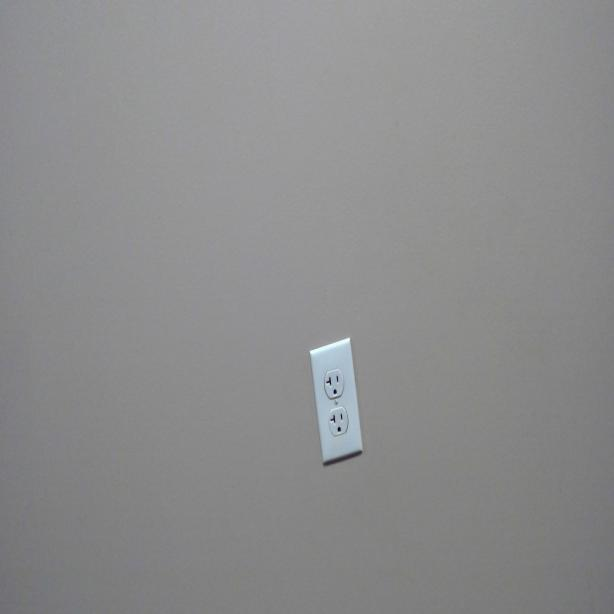typeb: (324, 371, 341, 400), (330, 410, 347, 436)
